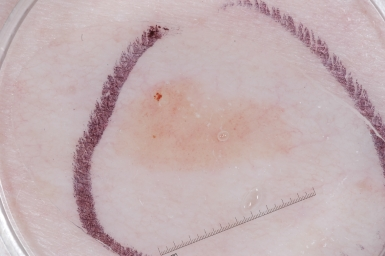seborrheic keratosis: (130, 70, 292, 176)
